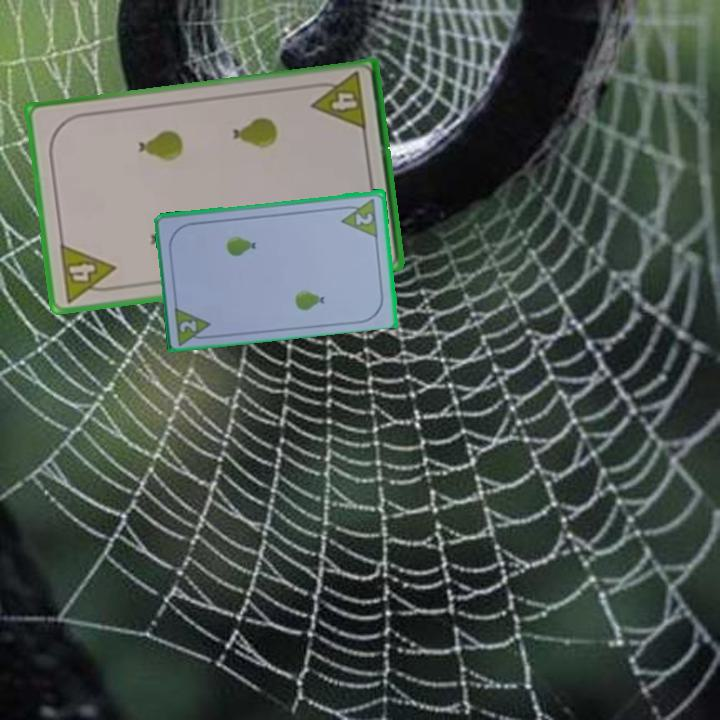2p: (337, 194, 381, 239), (176, 316, 200, 335)
4p: (56, 240, 121, 305), (307, 69, 369, 134)
